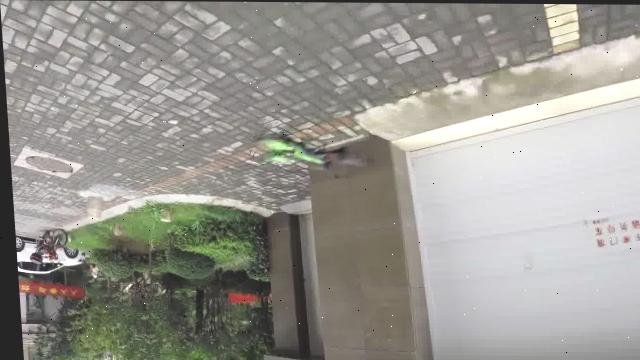drone: (0, 0, 640, 77)
